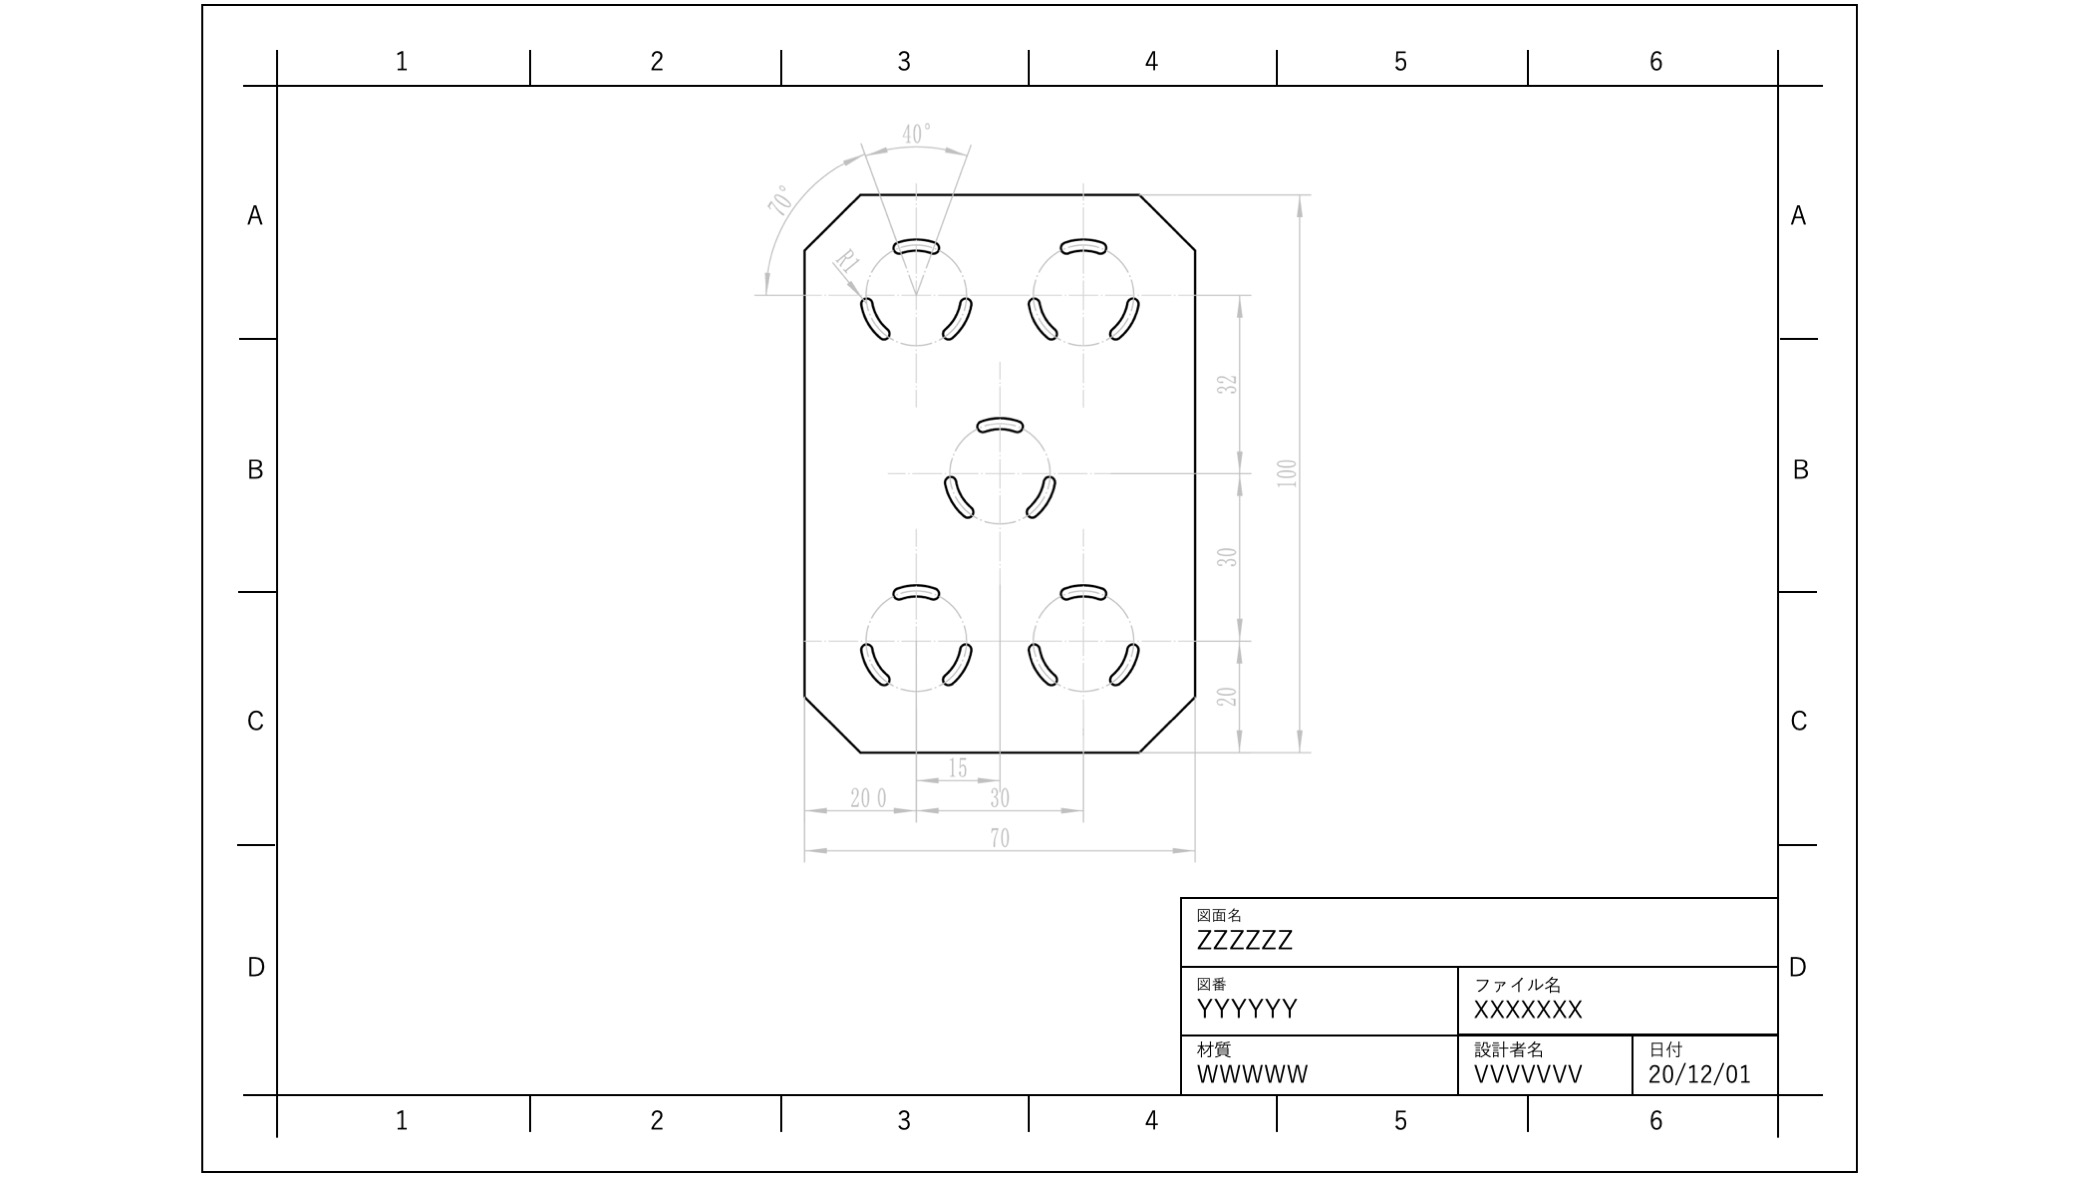round_rectangle: (854, 629, 899, 691), (845, 286, 891, 343), (1099, 290, 1147, 345), (1023, 466, 1067, 522), (940, 632, 979, 692), (1105, 636, 1145, 694), (940, 463, 979, 522), (936, 288, 974, 349), (1025, 633, 1062, 691), (966, 407, 1034, 437), (1021, 293, 1059, 346), (890, 225, 948, 260), (1056, 224, 1108, 260), (888, 575, 945, 607), (1051, 578, 1113, 606)
